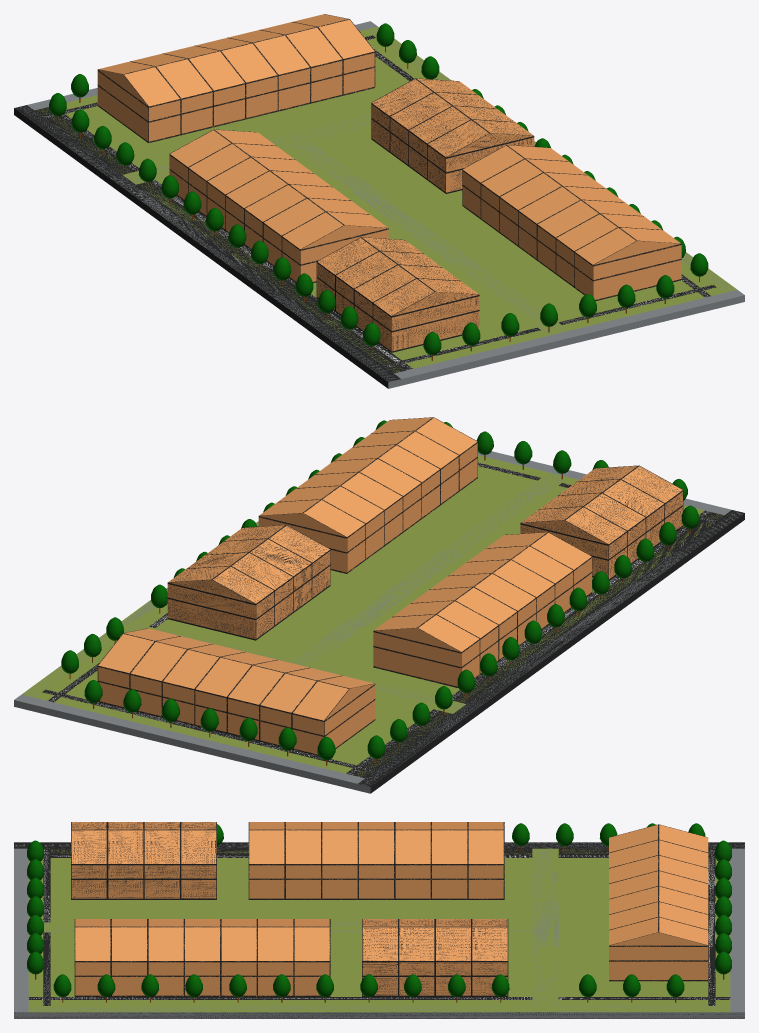
File: 225_townhome_commercial_A2.dae
3 renders of one model, top to bottom at view 1: azimuth 30°, elevation 25°; view 2: azimuth 150°, elevation 25°; view 3: azimuth 270°, elevation 25°, orthographic. The views are drawn at different scales.
Parts seen in each view (by area): view 1: group_1 (×14), Component_2 (×51); view 2: group_1 (×14), Component_2 (×45); view 3: Component_2 (×106), group_1 (×17).
Boxes of the visible parts, box(x1,y1,x2,y2) form: group_1 (×14): box(14, 26, 744, 388); Component_2 (×51): box(97, 19, 681, 352); group_1 (×14): box(14, 451, 744, 793); Component_2 (×45): box(98, 418, 682, 755); Component_2 (×106): box(71, 822, 708, 996); group_1 (×17): box(14, 842, 744, 1018).
Size of the model in its own units: 53.63 by 97.5 by 8.19.
